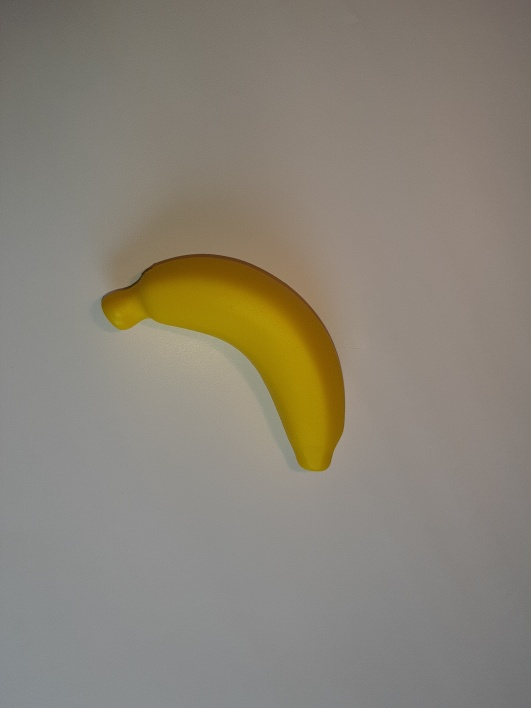banana: (102, 254, 332, 342)
